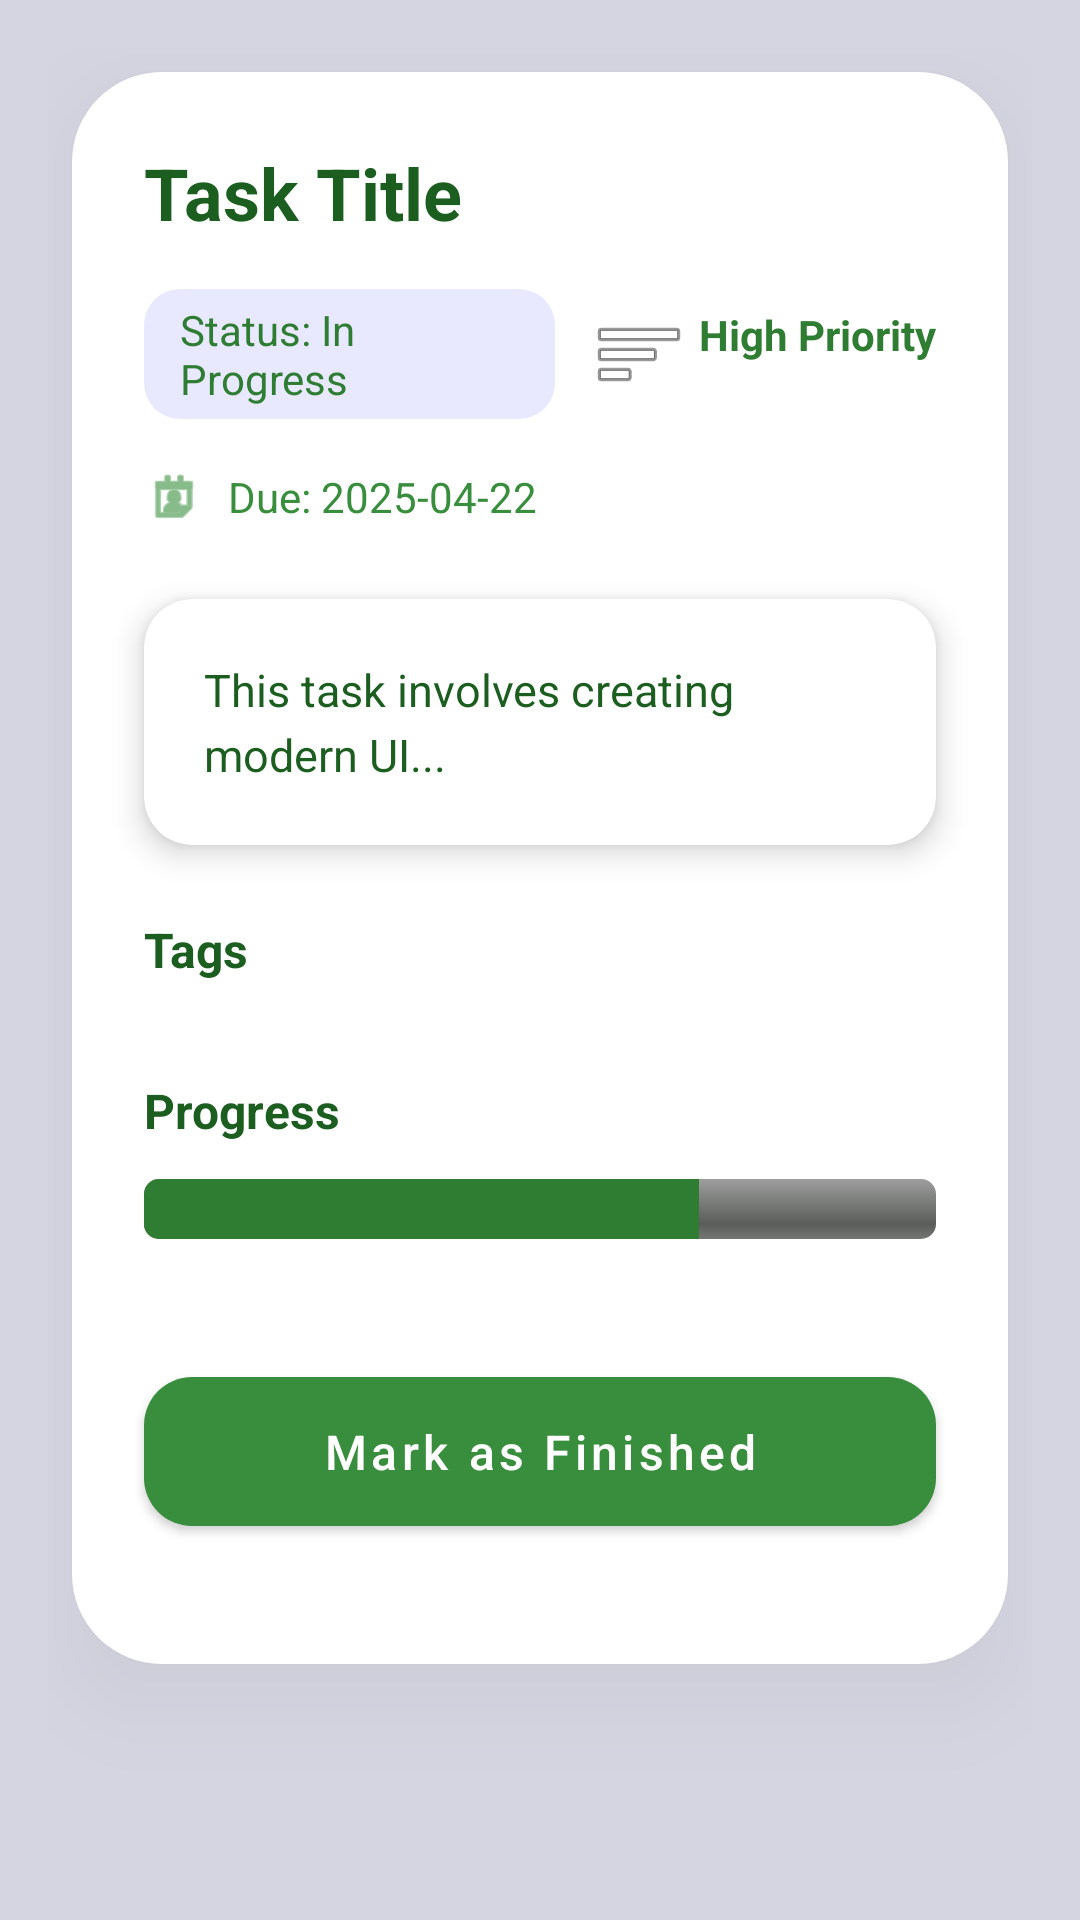

Named icons in this screenshot (1080 x 1920) and their centers, (x=x, y=y):
calendar: (x=174, y=496)
